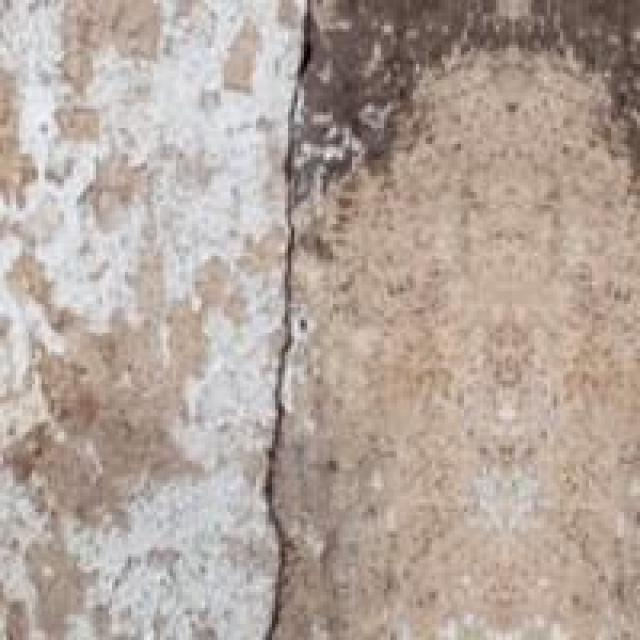crack: (194, 0, 372, 640)
